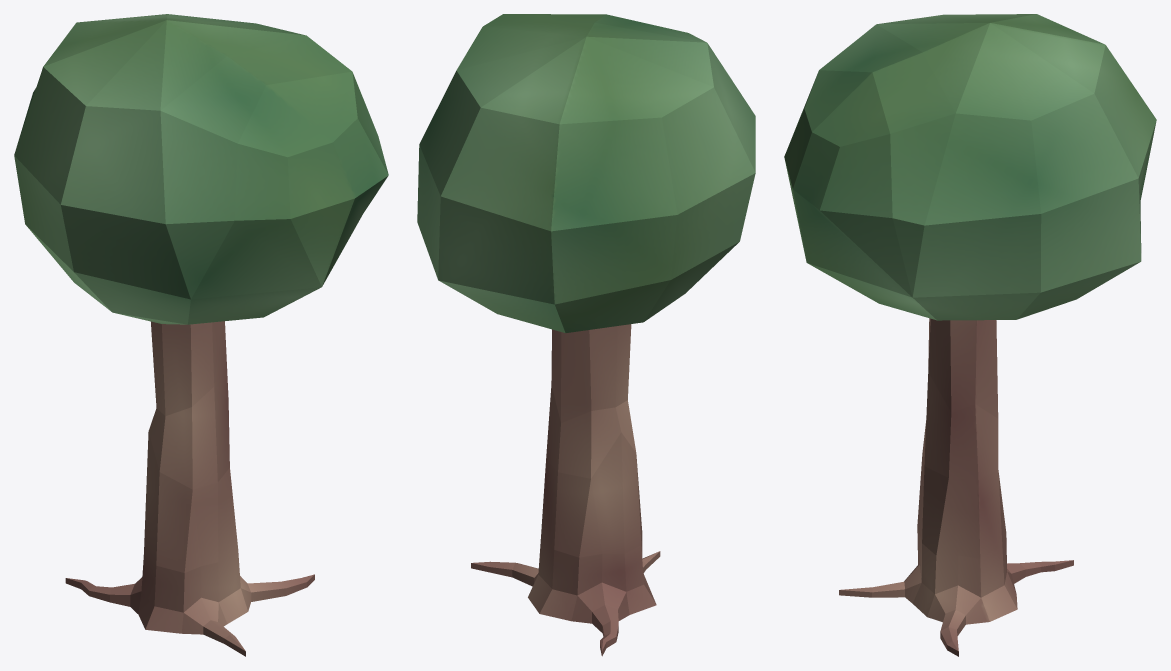
The model's file is tree_alt_01.fbx.
3 renders of one model, left to right at view 1: azimuth 30°, elevation 25°; view 2: azimuth 150°, elevation 25°; view 3: azimuth 270°, elevation 25°, orthographic.
Visible parts, largest first — view 1: tree_alt; view 2: tree_alt; view 3: tree_alt.
Part boxes in pixels (x1,y1,x2,y2): tree_alt: (14,14,388,656); tree_alt: (417,14,755,656); tree_alt: (784,14,1156,656).
Bounding box in the file's own units: 5890 × 10576 × 6248.
2 materials, 2 textured.
